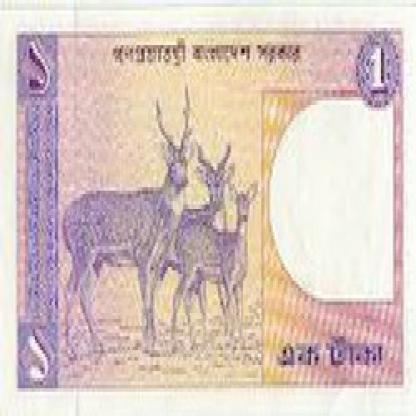One Taka: (275, 329, 386, 378), (16, 35, 56, 97), (20, 322, 55, 388), (366, 45, 393, 97)
